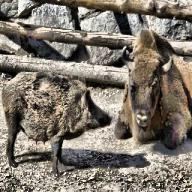boar: (1, 70, 112, 176), (114, 28, 191, 149)
